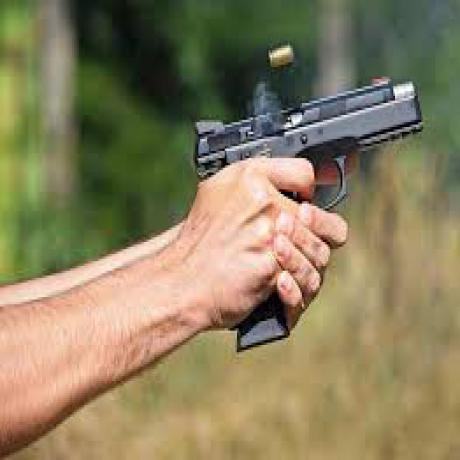Guns: (192, 70, 426, 348)
